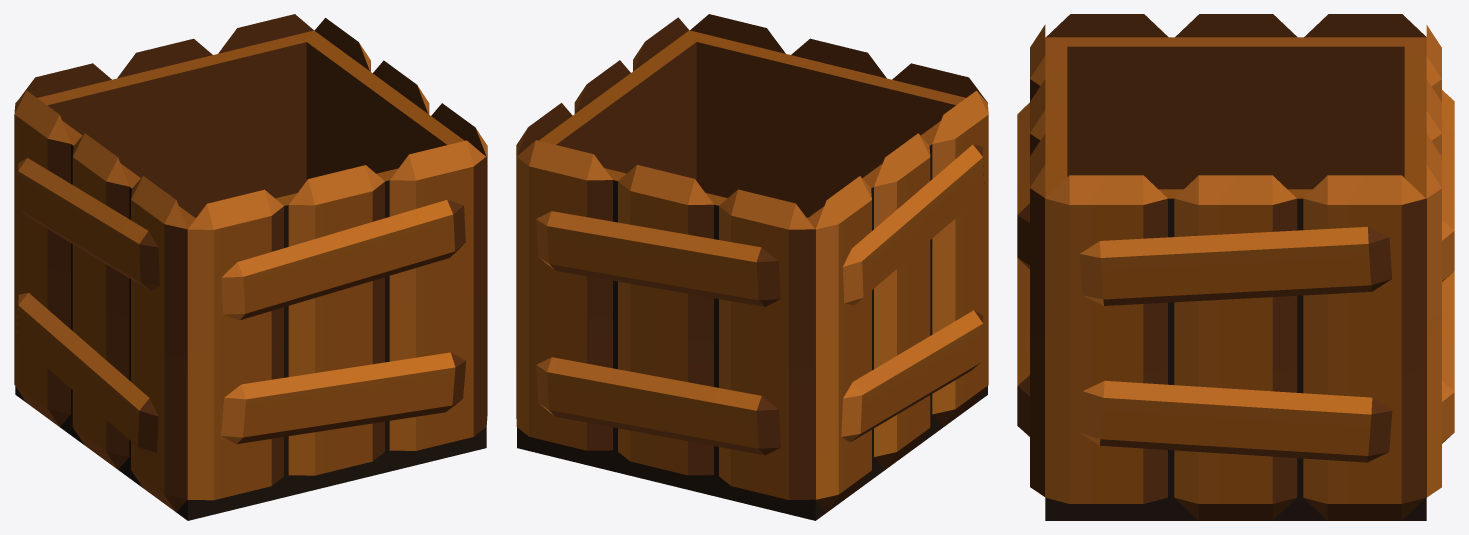
The model's file is wm_crate02_glb.glb.
3 renders of one model, left to right at view 1: azimuth 30°, elevation 25°; view 2: azimuth 150°, elevation 25°; view 3: azimuth 270°, elevation 25°, orthographic. The views are drawn at different scales.
Visible parts, largest first — view 1: WM_crate02; view 2: WM_crate02; view 3: WM_crate02.
Boxes of the visible parts, <box> form: WM_crate02: <box>14,14,487,520</box>; WM_crate02: <box>516,14,988,520</box>; WM_crate02: <box>1017,14,1454,520</box>.
Size of what is drawn, in the model's own units: 1.15 by 1 by 1.15.
Materials: 1 (1 with a texture image).
